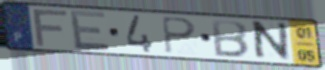4: (126, 14, 155, 54)
B: (210, 18, 251, 60)
E: (67, 9, 112, 52)
F: (31, 9, 71, 49)
N: (252, 19, 292, 62)
P: (159, 15, 198, 56)
